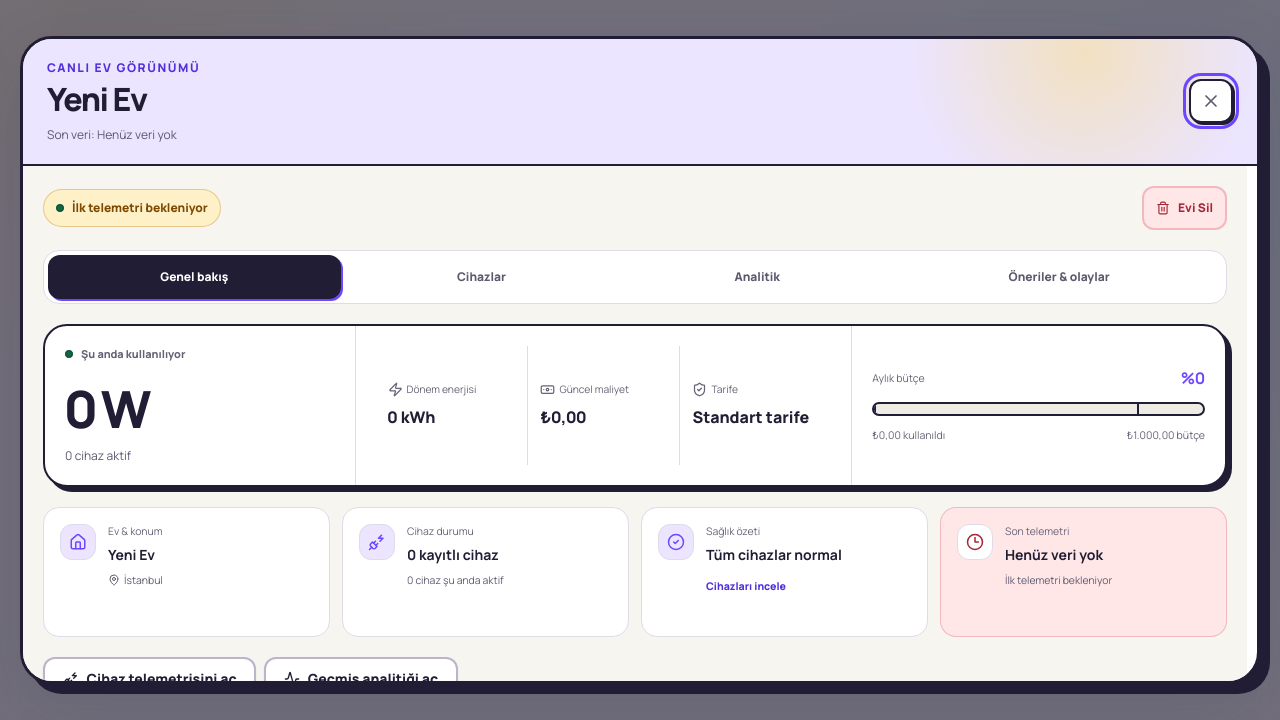
it: existing-home appliance registration › shows the new device as waiting for telemetry and refreshes parent data
Click the tab "Cihazlar".
click(481, 277)  # box [345,255,618,299]
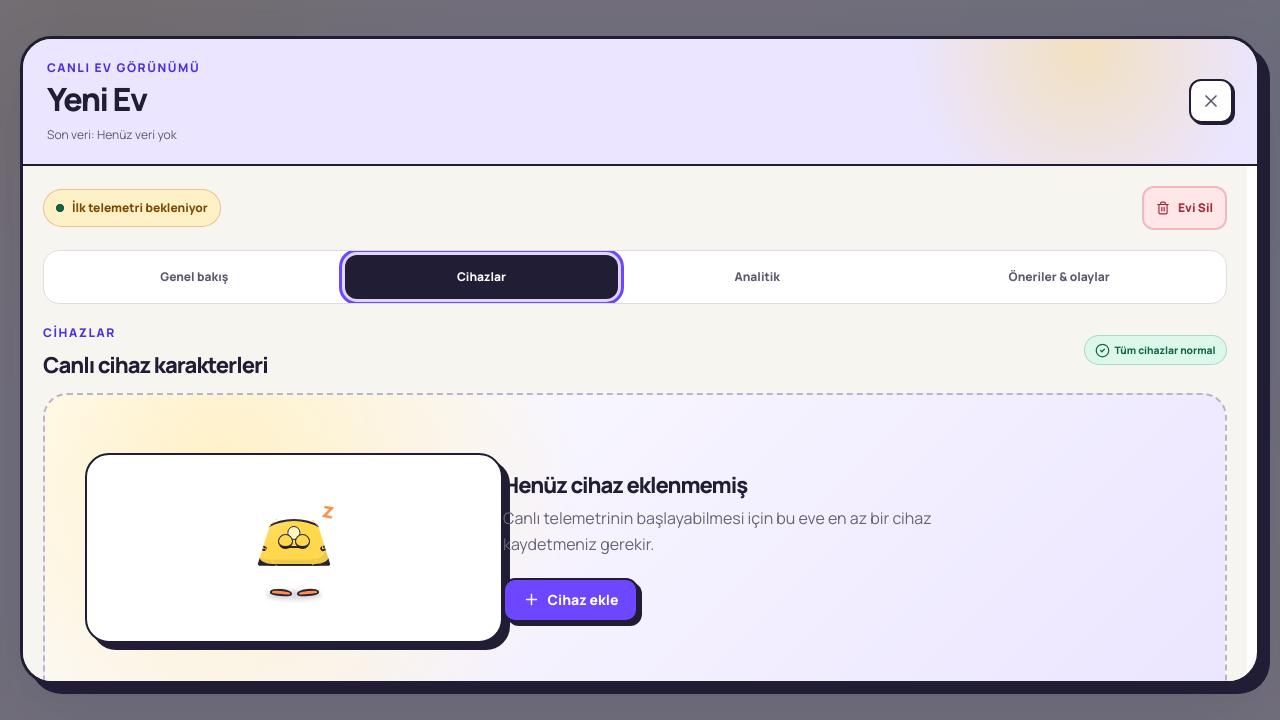
Click the button "Cihaz ekle".
click(570, 600)  # box [503,578,638,622]
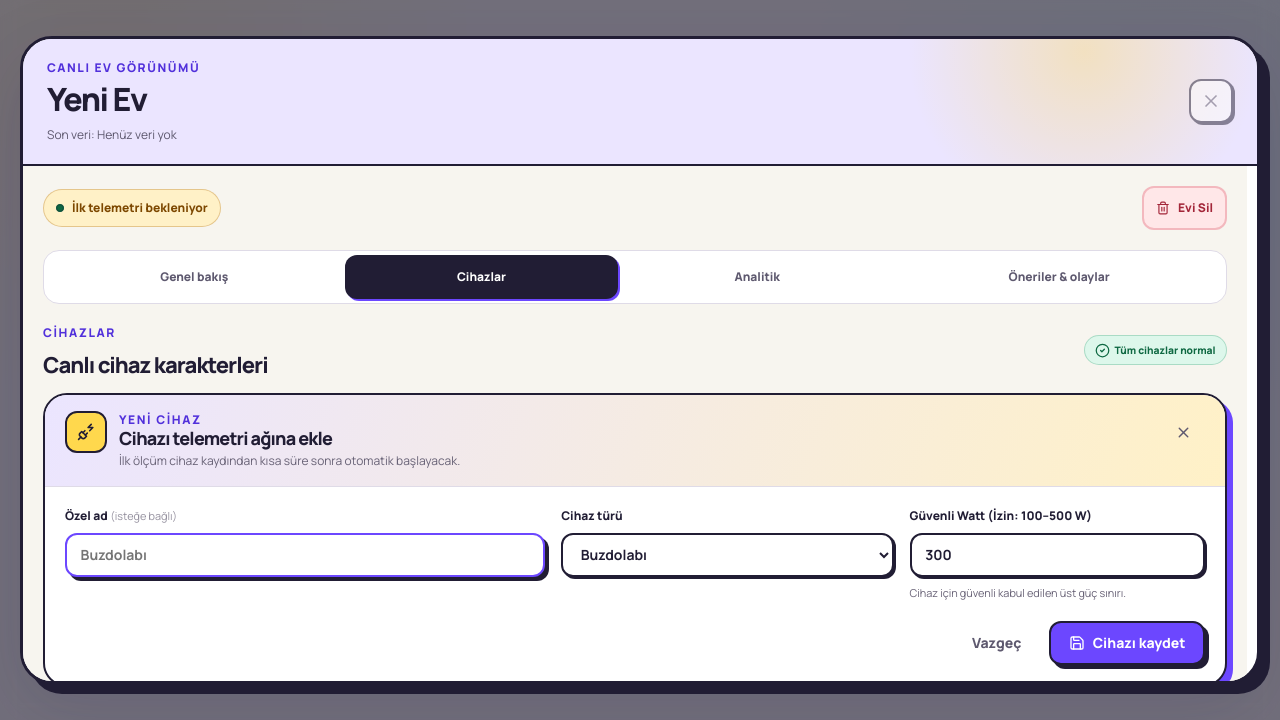
Type "Salon Televizyonu" into the field labelled "Özel ad (isteğe bağlı)".
click(305, 555); type("Salon Televizyonu")  # box [65,533,545,577]
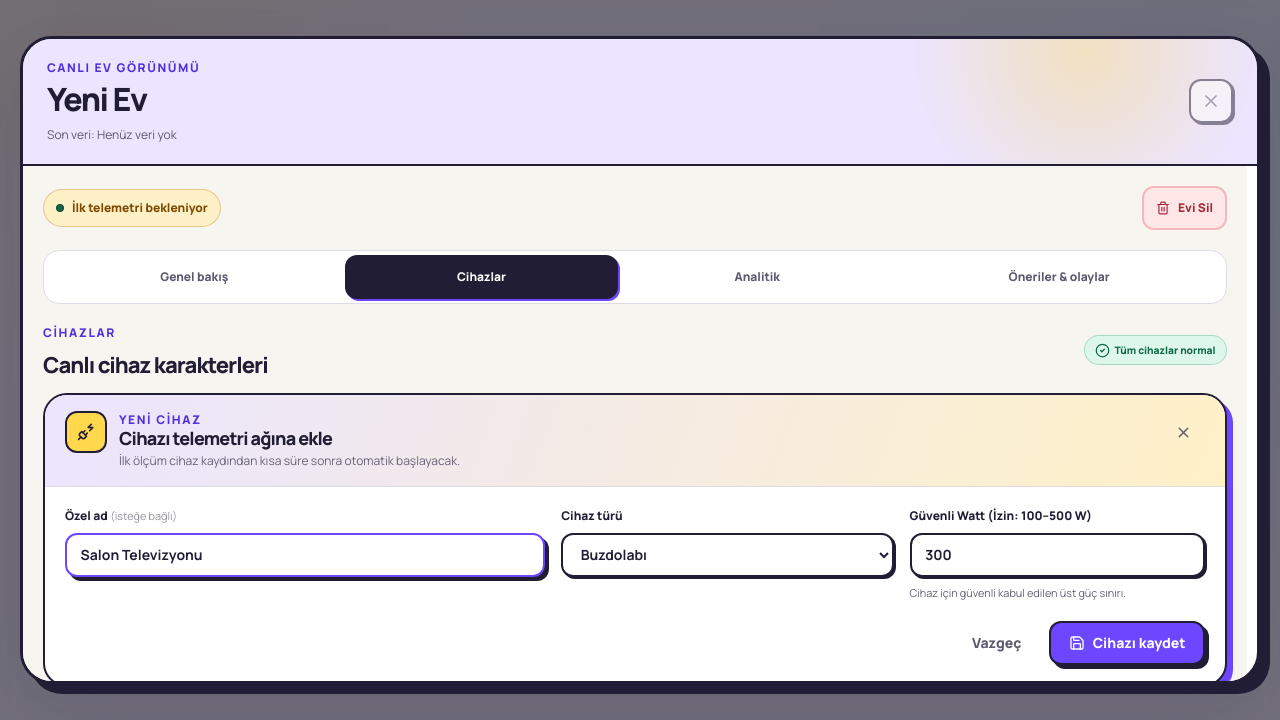
Select "Televizyon" in the dropdown labelled "Cihaz türü" at coordinates (727, 555), box [561,533,894,577]
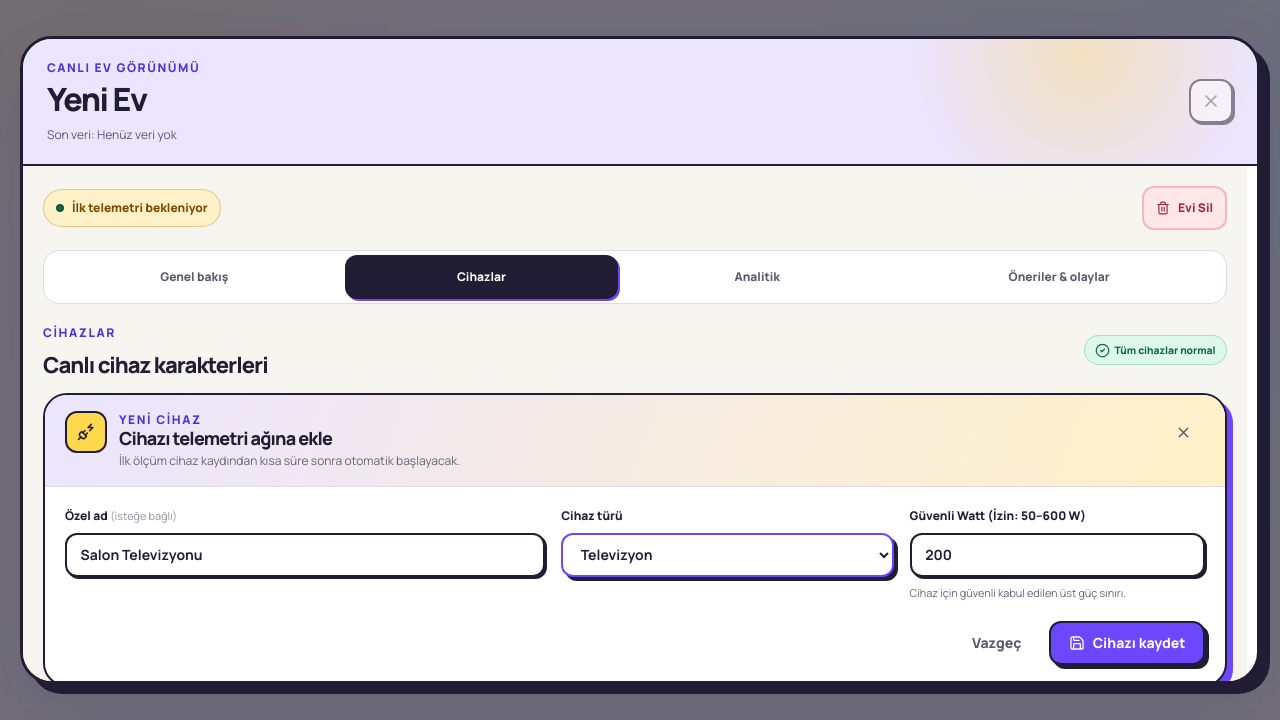
Type "450" into the field labelled "Güvenli Watt".
click(1057, 555); type("450")  # box [910,533,1205,577]
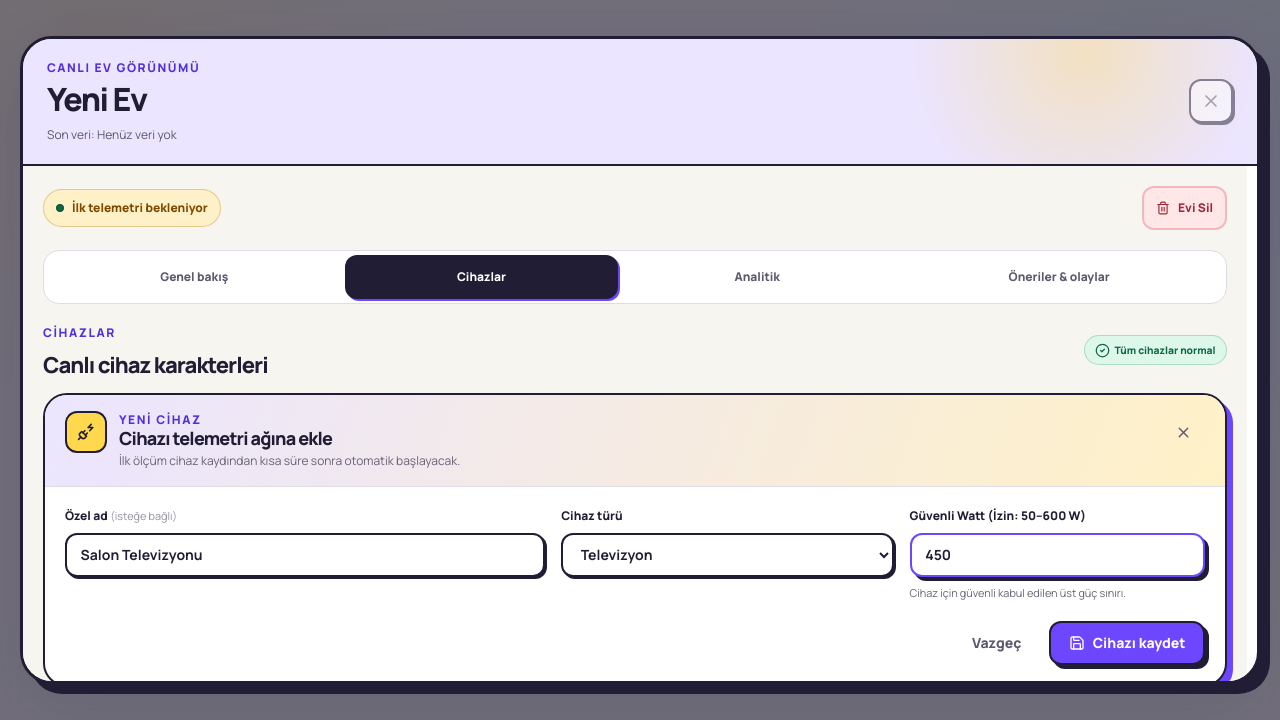
Click the button "Cihazı kaydet".
click(1127, 643)  # box [1049,621,1205,665]
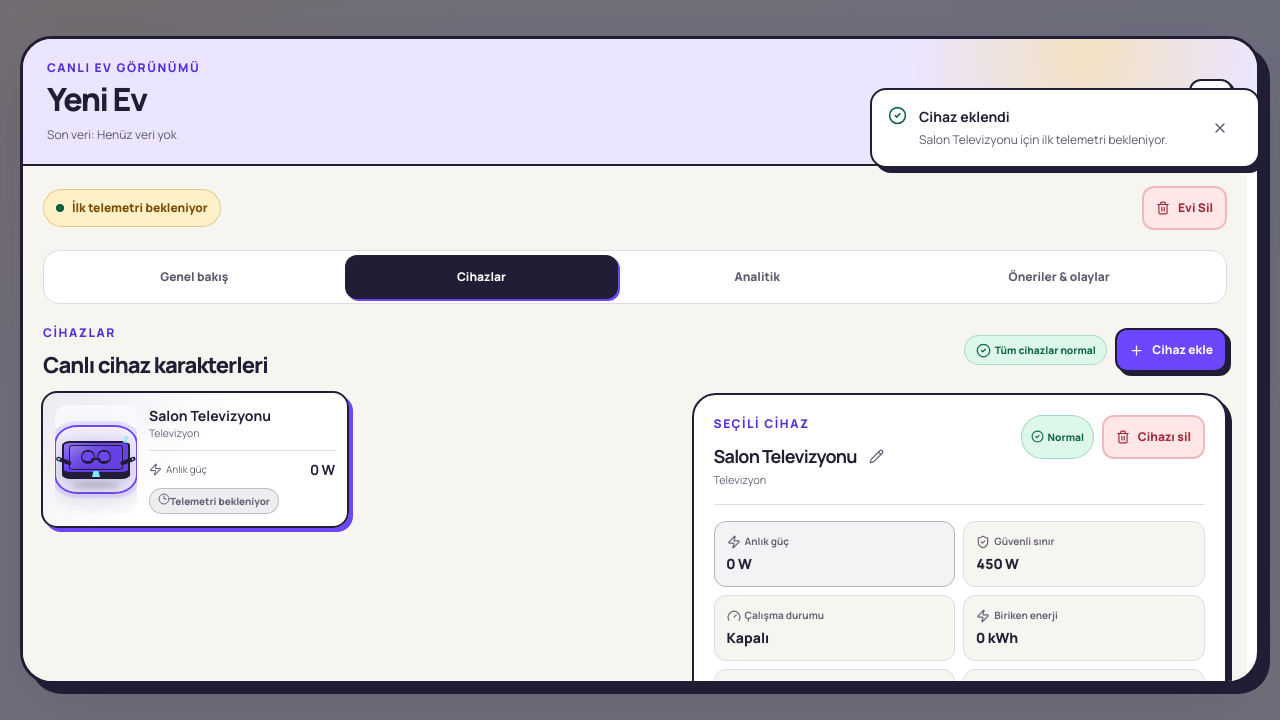
Expected: the heading "Salon Televizyonu" is shown, [714,447,857,466]
Expected: the text "Telemetri bekleniyor" is shown, [149,488,279,514]
Expected: the text "Cihaz eklendi" is shown, [919,107,1010,126]
